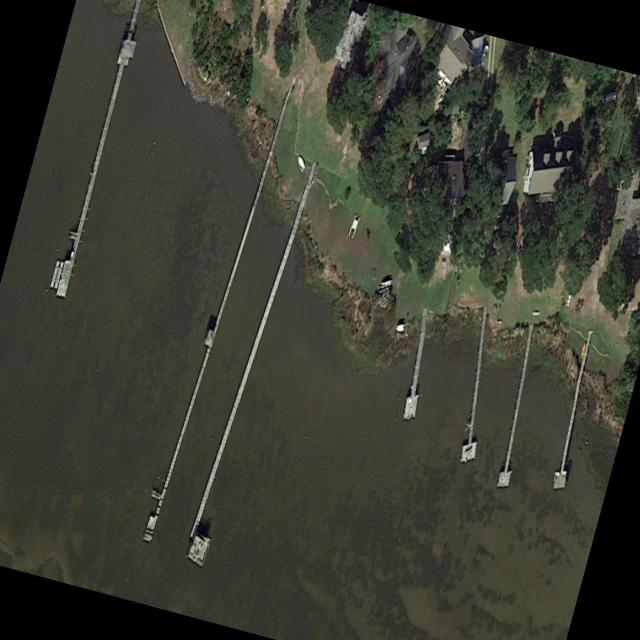ship: (346, 211, 360, 240), (477, 41, 488, 68), (295, 153, 305, 173), (564, 293, 570, 307)
